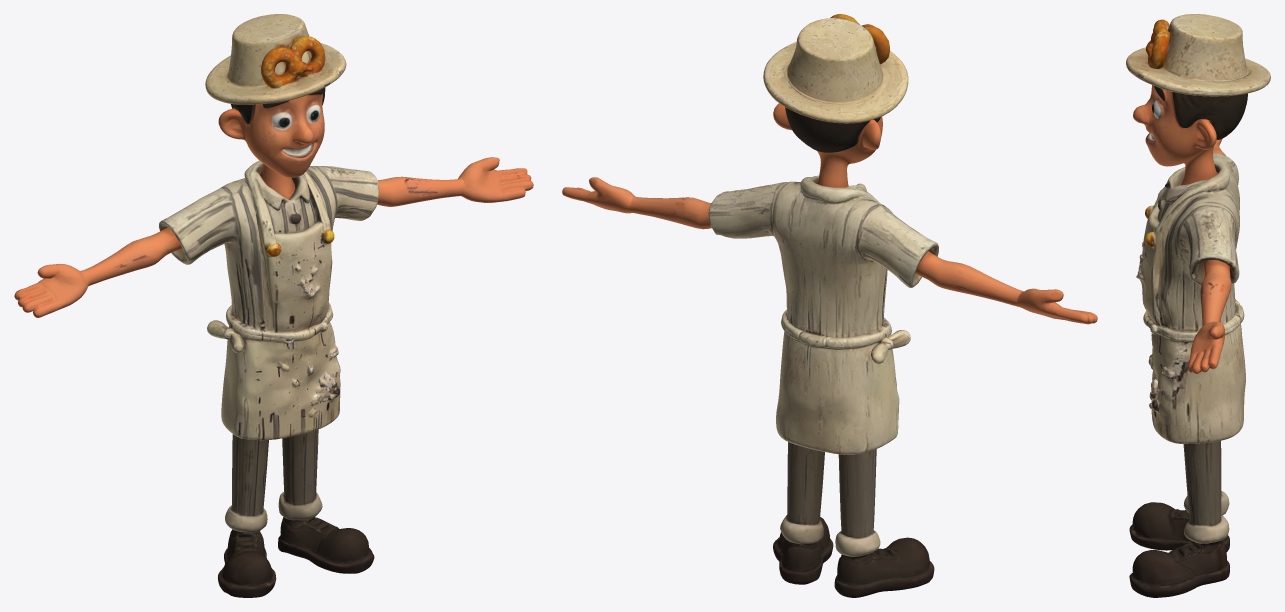
File: cinnamon_sue.glb
The picture shows the model from 3 angles, left to right: view 1: azimuth 30°, elevation 25°; view 2: azimuth 150°, elevation 25°; view 3: azimuth 270°, elevation 25°; orthographic projection. The views are drawn at different scales.
Visible parts, largest first — view 1: tripo_node_875fbb07-214f-4e48-8986-b5ce5f4a4943; view 2: tripo_node_875fbb07-214f-4e48-8986-b5ce5f4a4943; view 3: tripo_node_875fbb07-214f-4e48-8986-b5ce5f4a4943.
Part boxes in pixels (x1,y1,x2,y2): tripo_node_875fbb07-214f-4e48-8986-b5ce5f4a4943: [14, 14, 533, 597]; tripo_node_875fbb07-214f-4e48-8986-b5ce5f4a4943: [562, 14, 1097, 597]; tripo_node_875fbb07-214f-4e48-8986-b5ce5f4a4943: [1126, 14, 1270, 597].
Size of the model in its own units: 0.9782 by 0.9806 by 0.238.
1 material, 1 textured.
